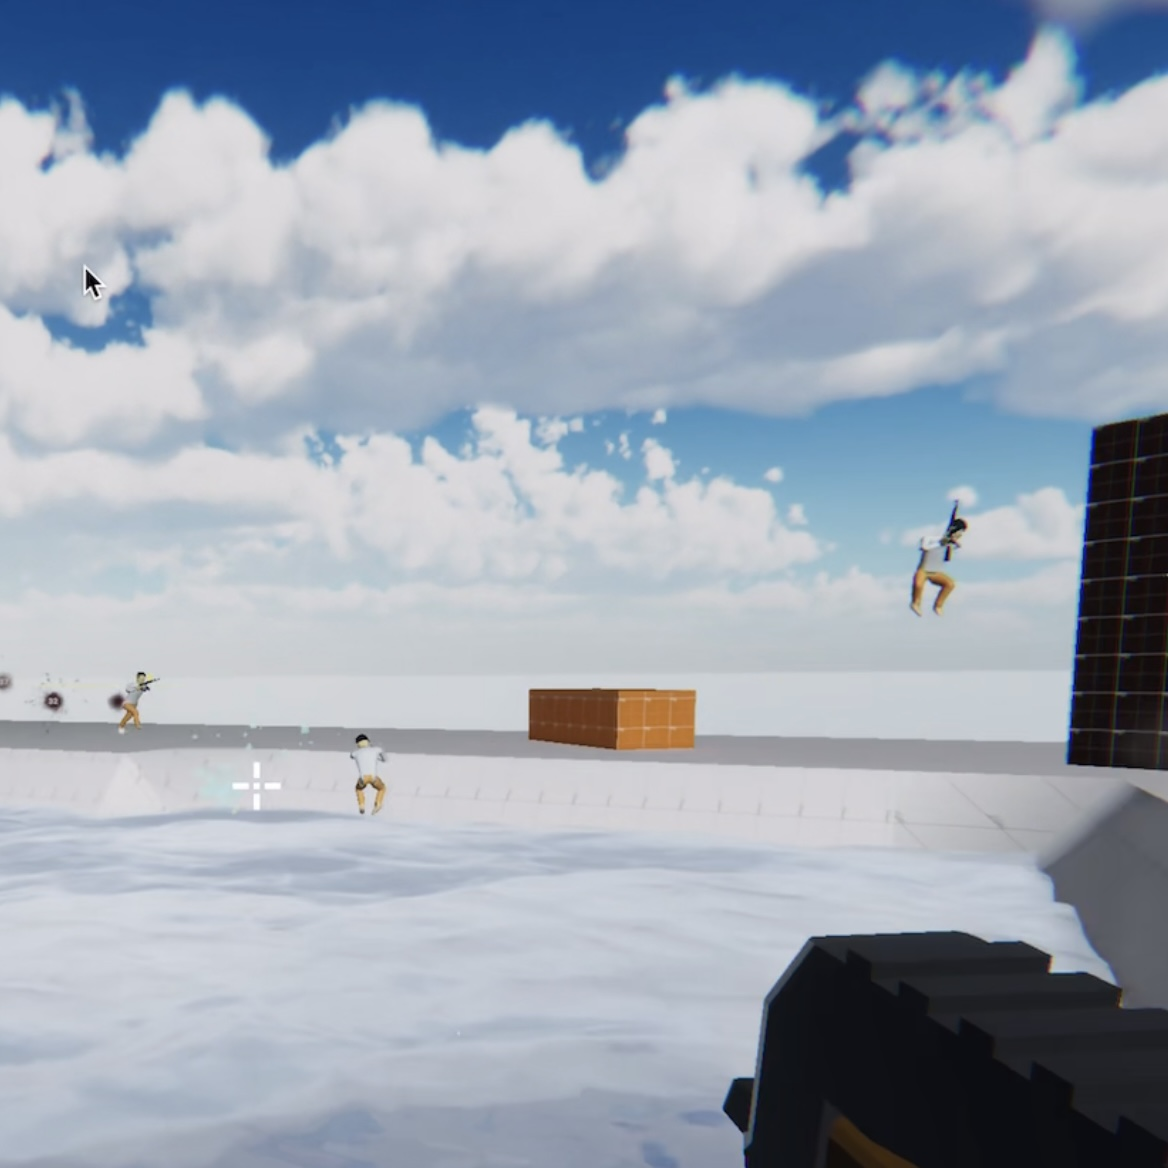human: (923, 513, 962, 607), (350, 730, 385, 817), (125, 652, 153, 739)
